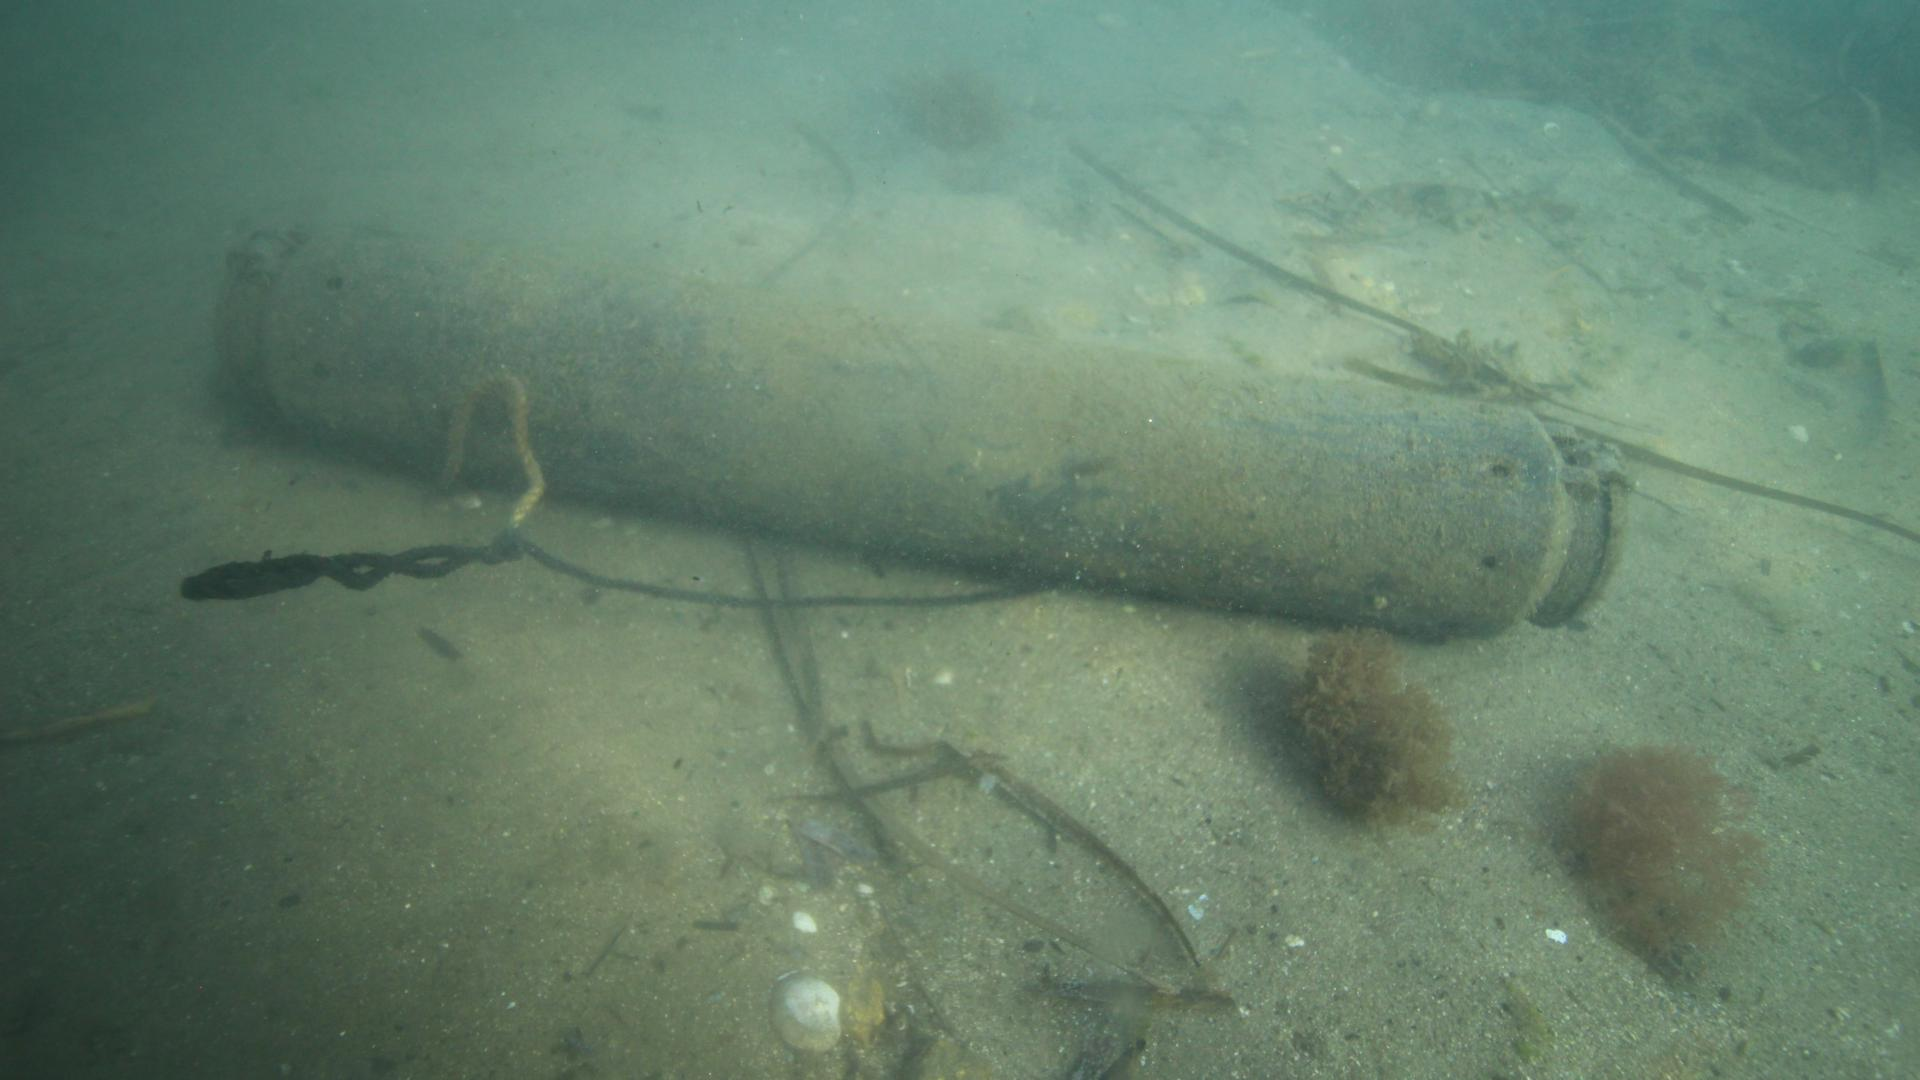eel fish trap: (218, 220, 1634, 640)
rope: (175, 361, 1058, 607)
